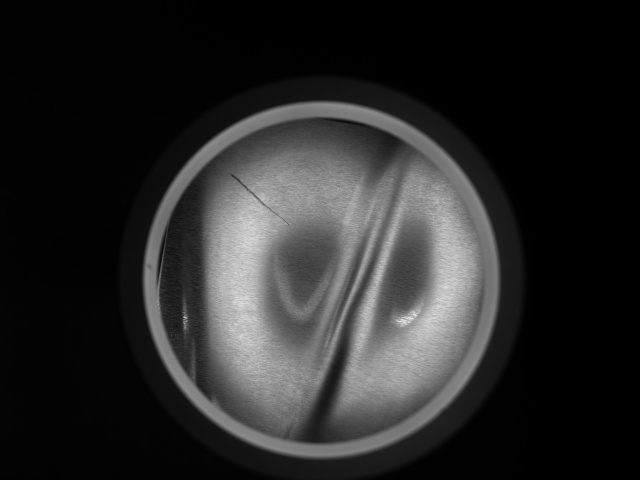ca_shang: (230, 171, 292, 229)
zhe_zhou: (208, 138, 446, 412)
